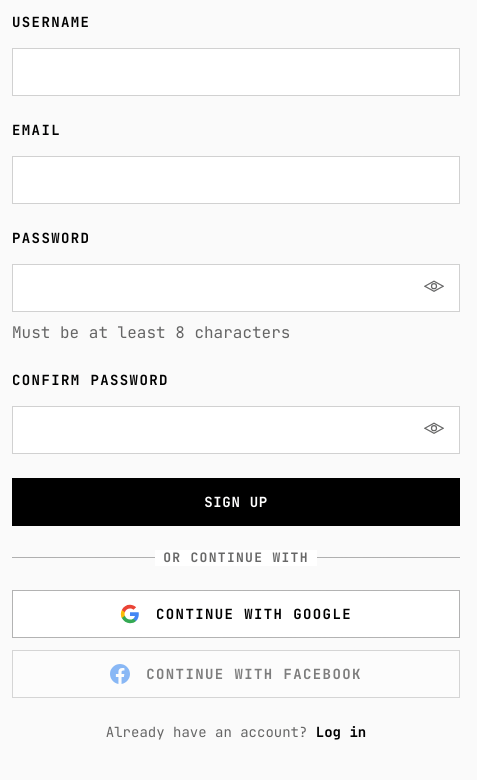
Test: SignupForm › Form submission › shows loading state while submitting
Type "newuser" into the field labelled "Username" at point(236, 72), box [12, 48, 460, 96]
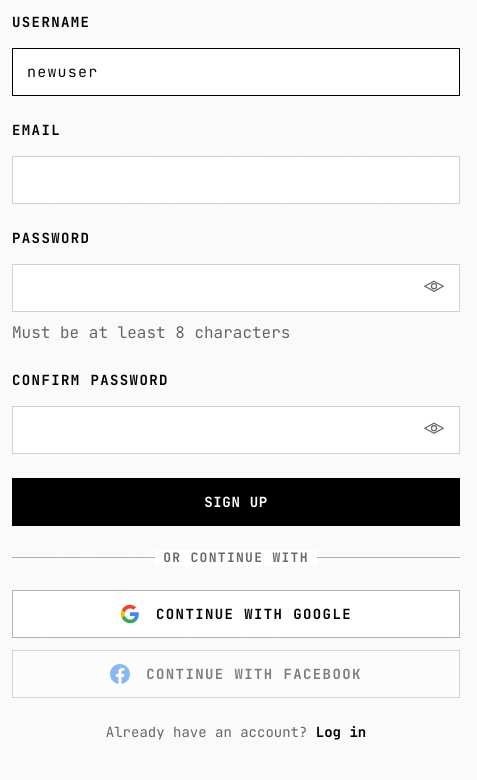
Type "newuser@example.com" into the field labelled "Email" at point(236, 180), box [12, 156, 460, 204]
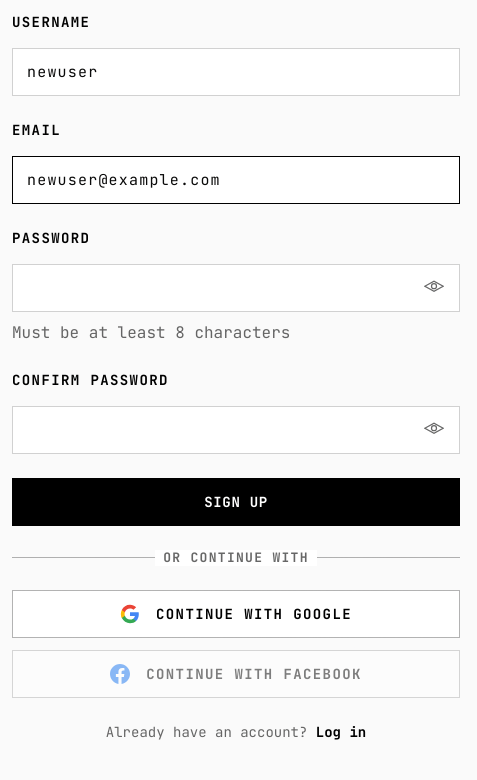
Type "password123" into the password field labelled "Password" at point(236, 288), box [12, 264, 460, 312]
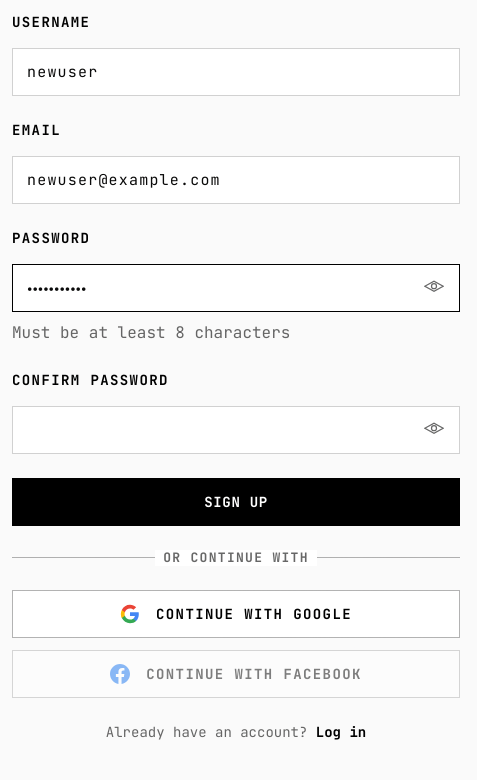
Type "password123" into the password field labelled "Confirm Password" at point(236, 430), box [12, 406, 460, 454]
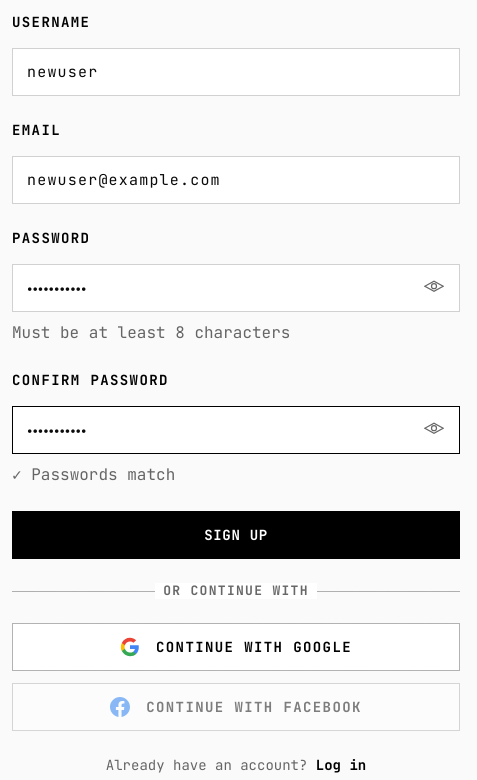
Click the button "Sign Up" at point(236, 535), box [12, 511, 460, 559]
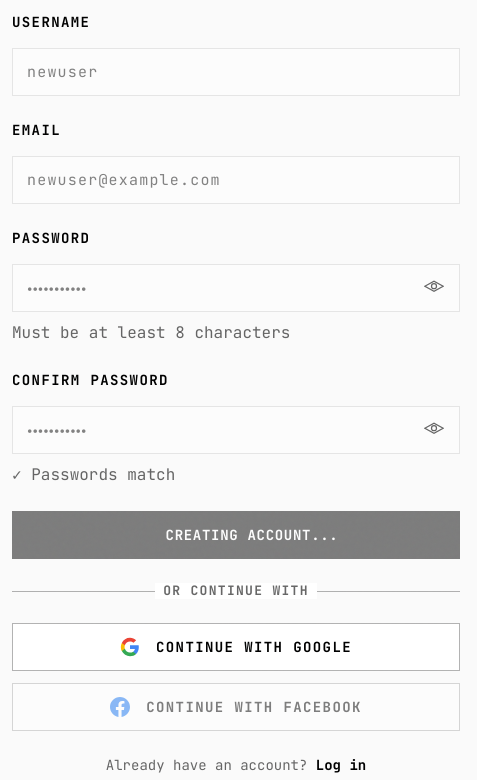
Now the button "Creating account..." is disabled, box [12, 511, 460, 559]
